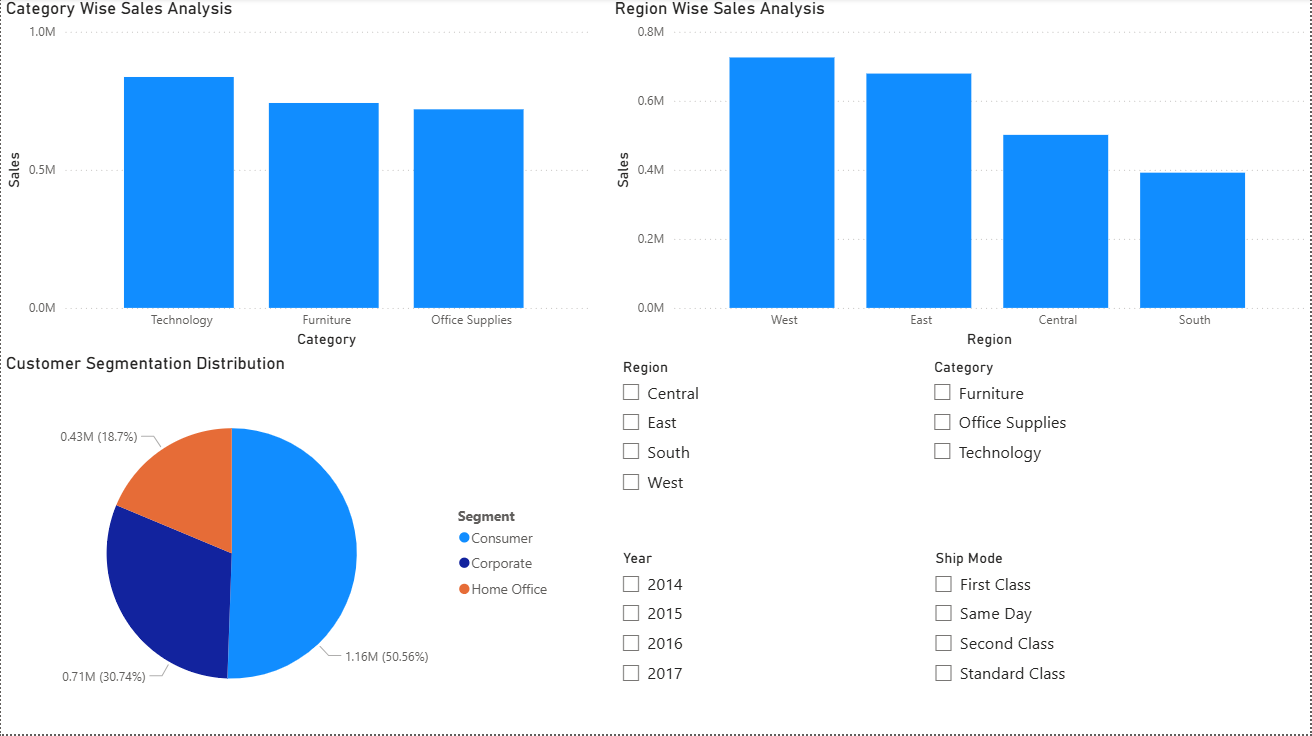

This screenshot's page, from the dashboard's own definition file:
{"tool":"powerbi","page":{"name":"Different Analysis","canvas":[1280,720],"ordinal":2},"visuals":[{"type":"pieChart","title":"Customer Segmentation Distribution","fields":{"Category":["Sample - Superstore.Segment"],"Y":["Sum(Sample - Superstore.Sales)"]},"box":[0,347.2,548.9,373.2],"z":0},{"type":"clusteredColumnChart","title":"Region Wise Sales Analysis","fields":{"Category":["Sample - Superstore.Region"],"Y":["Sum(Sample - Superstore.Sales)"]},"box":[595.5,0,684.7,347.2],"z":1},{"type":"clusteredColumnChart","title":"Category Wise Sales Analysis","fields":{"Y":["Sum(Sample - Superstore.Sales)"],"Category":["Sample - Superstore.Category"]},"box":[0,0,579.1,347.2],"z":2},{"type":"slicer","fields":{"Values":["Sample - Superstore.Region"]},"box":[595.5,347.2,317,186.6],"z":3},{"type":"slicer","fields":{"Values":["Sample - Superstore.Category"]},"box":[900.2,347.2,380.1,186.6],"z":4},{"type":"slicer","fields":{"Values":["Sample - Superstore.Order Date.Variation.Date Hierarchy.Year"]},"box":[595.5,533.8,304.6,186.6],"z":5},{"type":"slicer","fields":{"Values":["Sample - Superstore.Ship Mode"]},"box":[901.5,533.8,378.7,186.6],"z":6}]}

Visuals, with their boxes in screenshot pixels (x1, y1, x2, y2), scaled from the page's 1280x720 canvas onto the 1312x736 screenshot:
"Customer Segmentation Distribution" pieChart: [x1=0, y1=355, x2=563, y2=735]
"Region Wise Sales Analysis" clusteredColumnChart: [x1=610, y1=0, x2=1311, y2=355]
"Category Wise Sales Analysis" clusteredColumnChart: [x1=0, y1=0, x2=594, y2=355]
slicer - Sample - Superstore.Region: [x1=610, y1=355, x2=935, y2=546]
slicer - Sample - Superstore.Category: [x1=923, y1=355, x2=1311, y2=546]
slicer - Sample - Superstore.Order Date.Variation.Date Hierarchy.Year: [x1=610, y1=546, x2=923, y2=735]
slicer - Sample - Superstore.Ship Mode: [x1=924, y1=546, x2=1311, y2=735]
